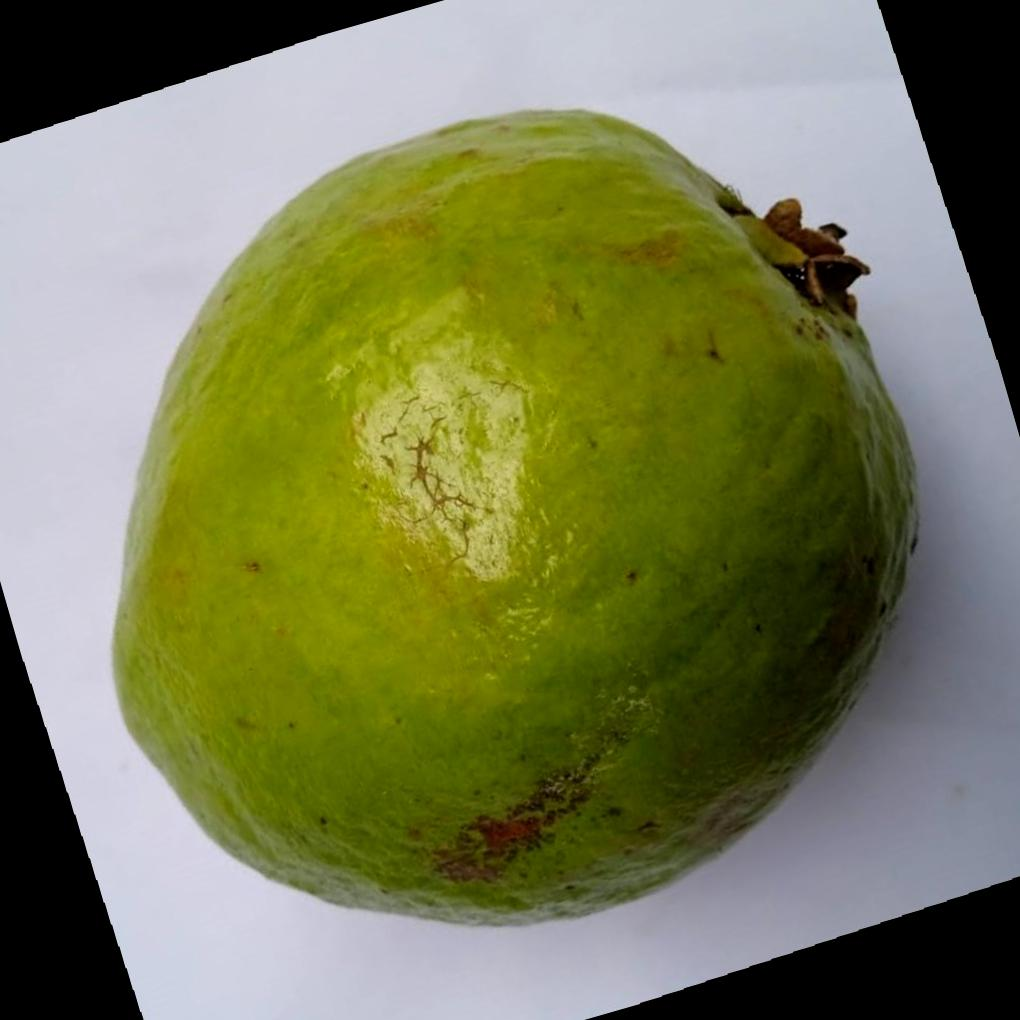FreshGuava: (111, 105, 923, 925)
